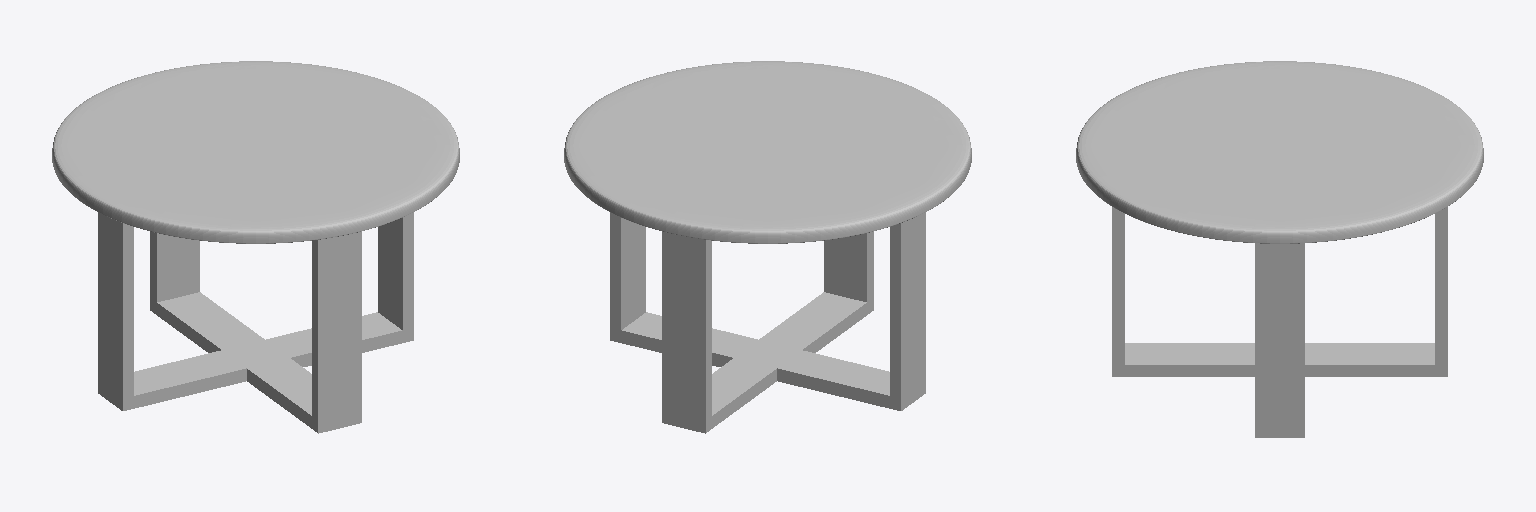
The model's file is Table.obj.
3 views of the same model, side by side, from view 1: azimuth 30°, elevation 25°; view 2: azimuth 150°, elevation 25°; view 3: azimuth 270°, elevation 25° (orthographic).
Visible parts, largest first — view 1: Surface_Cylinder, Stand2_Cube.002, Stand; view 2: Surface_Cylinder, Stand2_Cube.002, Stand; view 3: Surface_Cylinder, Stand2_Cube.002, Stand.
Boxes of the visible parts, <box> form: Surface_Cylinder: <box>52,61,459,243</box>; Stand2_Cube.002: <box>150,231,361,433</box>; Stand: <box>98,212,413,410</box>; Surface_Cylinder: <box>564,61,971,243</box>; Stand2_Cube.002: <box>662,231,873,433</box>; Stand: <box>610,212,925,410</box>; Surface_Cylinder: <box>1076,61,1483,243</box>; Stand2_Cube.002: <box>1112,207,1447,376</box>; Stand: <box>1255,243,1304,437</box>.
Bounding box in the file's own units: 1.46 × 0.8736 × 1.46.